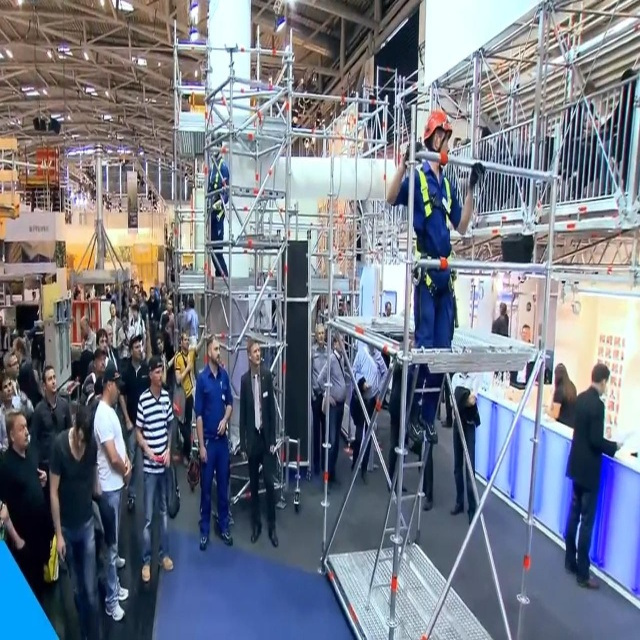Arnes_seguridad: (406, 150, 464, 317), (209, 153, 227, 220)
